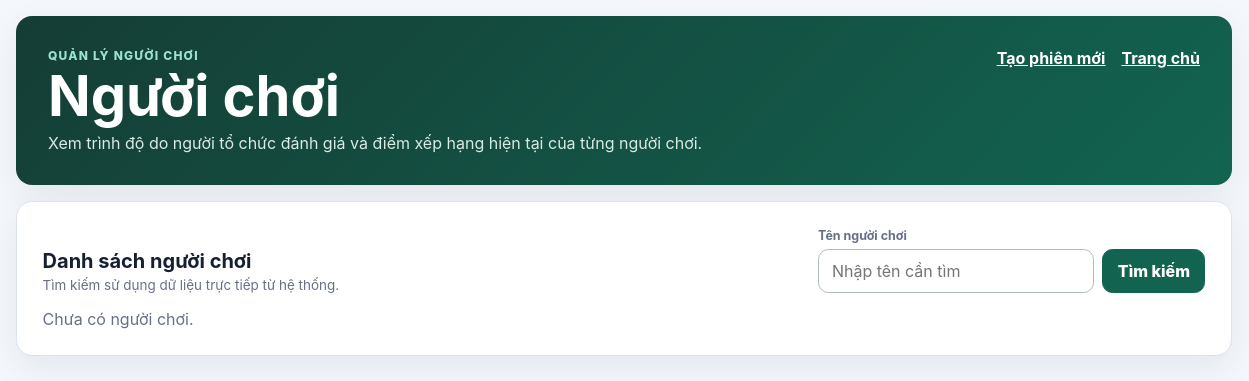
it: PlayerListPage › shows a distinct zero-search-result state
Check: the text "Chưa có người chơi." is shown, box [43, 309, 194, 329]
Step 1. Type "Không có" into the field labelled "Tên người chơi" → (956, 271), box [818, 249, 1094, 293]
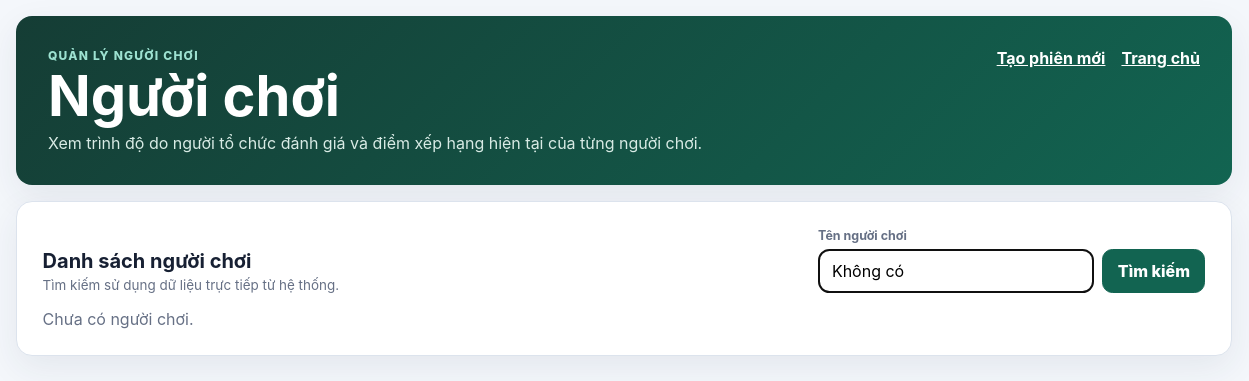
Step 2. Click the button "Tìm kiếm" → (1154, 271), box [1102, 249, 1205, 293]
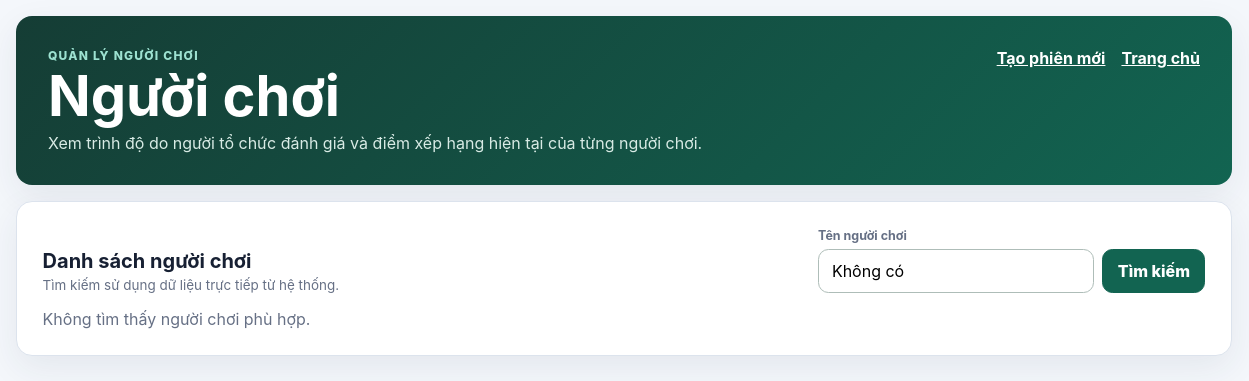
Check: the text "Không tìm thấy người chơi phù hợp." is shown, box [43, 309, 310, 329]
